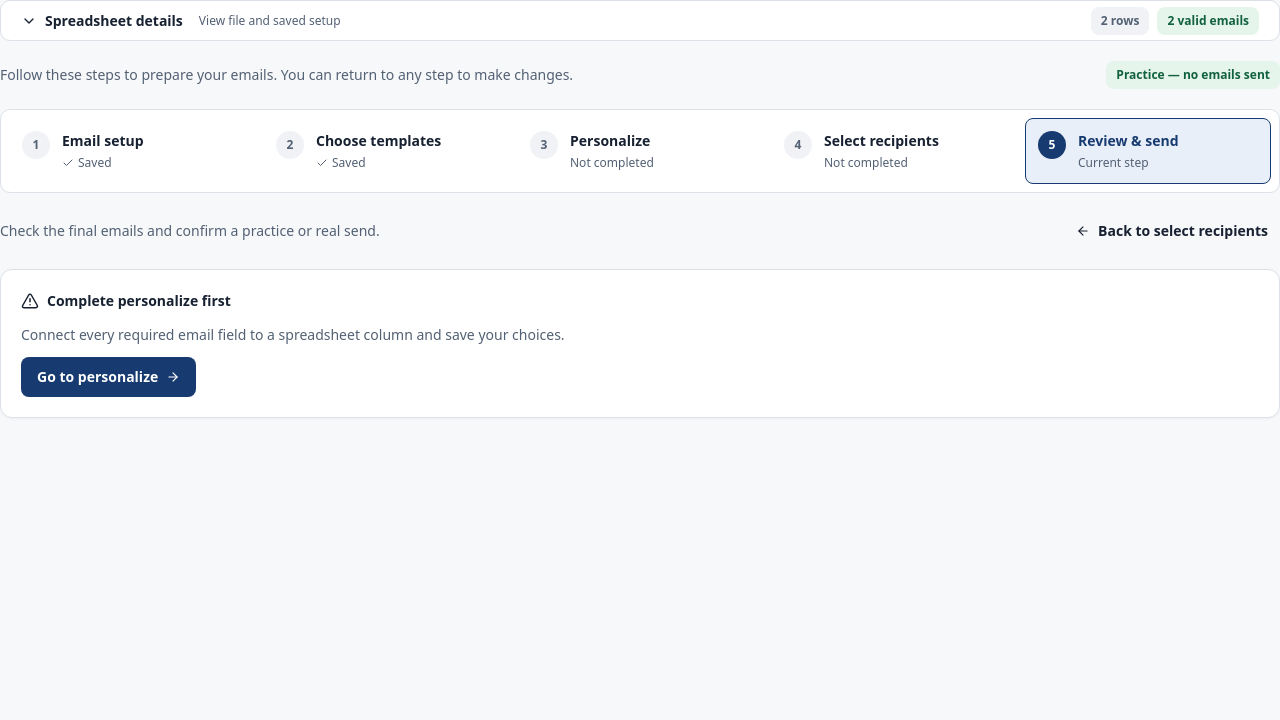
Test case: dataset details navigation › explains missing mappings before opening send
Expected: the text "Complete personalize first" is shown, [21,291,231,310]
Click the button "Go to personalize" at [109, 377], box [21,357,196,397]
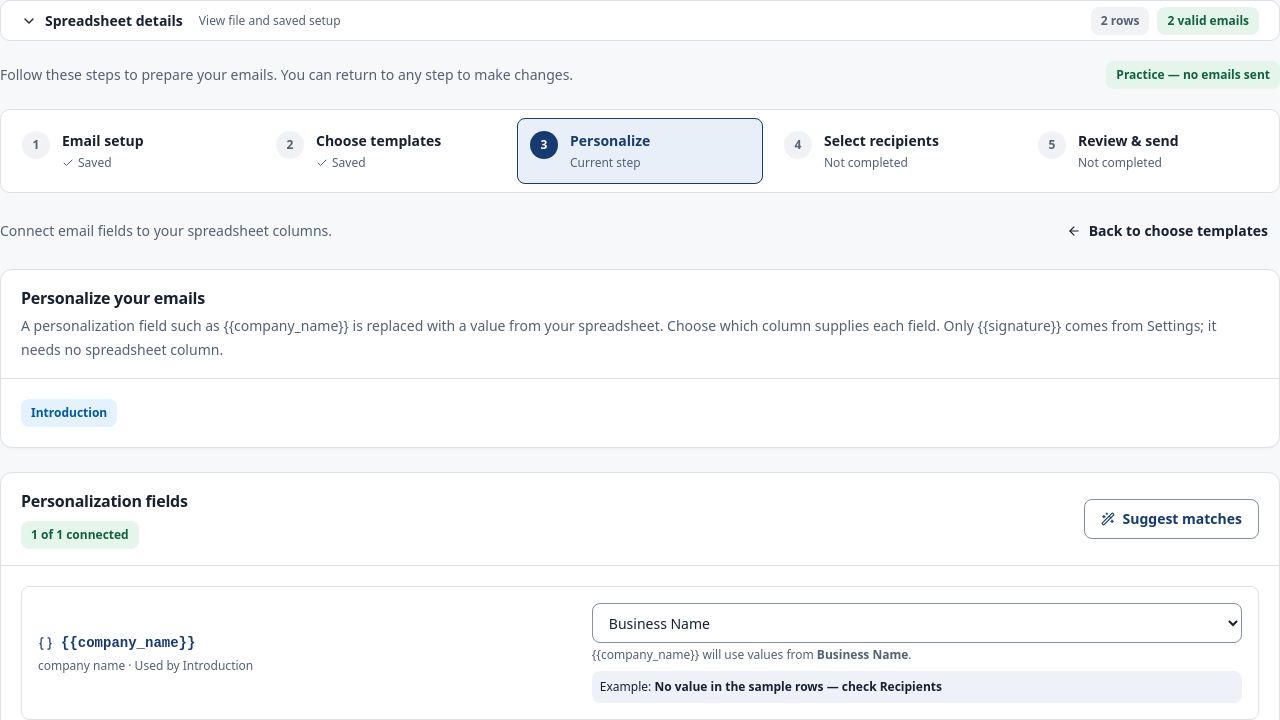
Result: the heading "Personalize your emails" is shown at [21,287,205,309]
